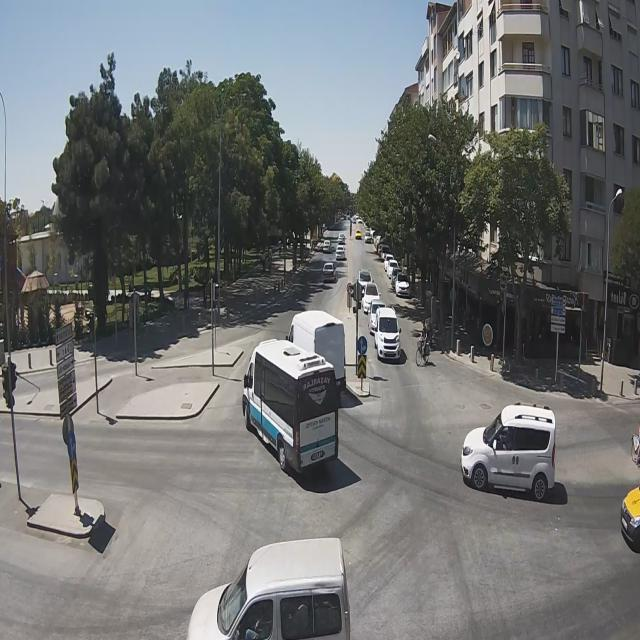car: (188, 538, 350, 640), (461, 406, 555, 501), (375, 308, 401, 359)
minibus: (242, 340, 339, 471)
traffic-lights: (2, 360, 18, 408)
